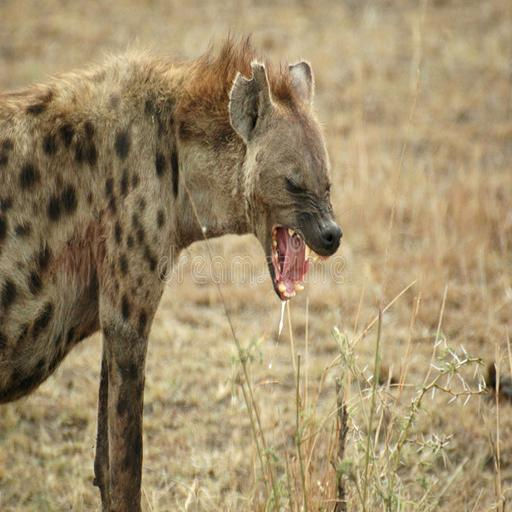Hyena: (0, 28, 346, 512)
